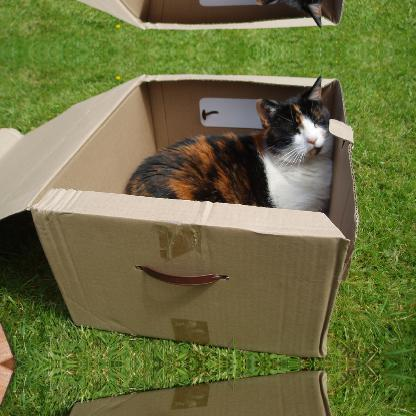Cat: (127, 74, 335, 212), (127, 0, 336, 31)
